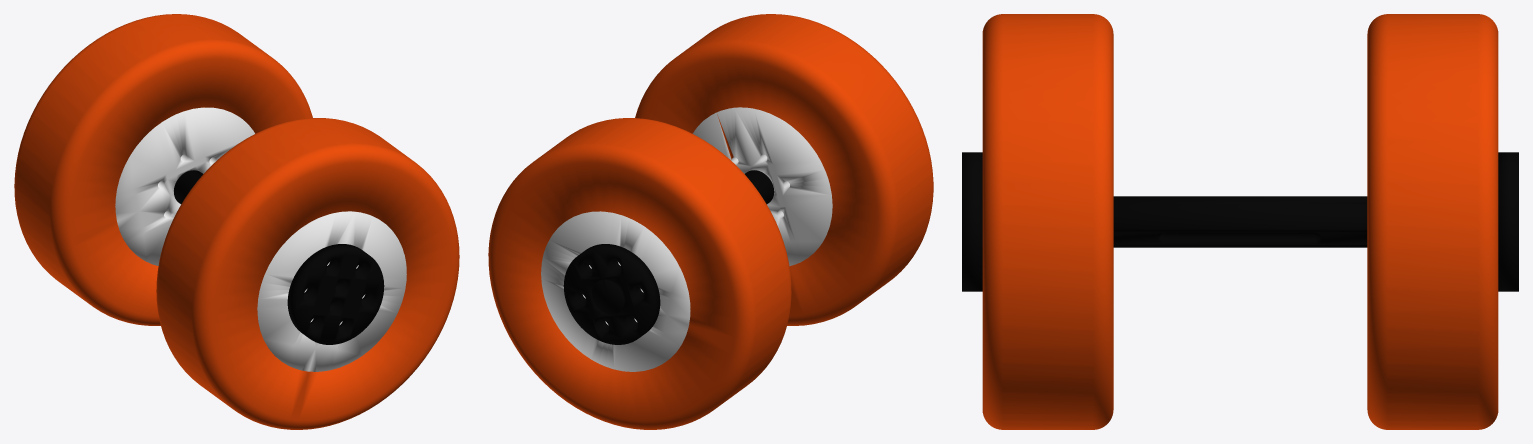
The model's file is front_wheel.dae.
3 views of the same model, side by side, from view 1: azimuth 30°, elevation 25°; view 2: azimuth 150°, elevation 25°; view 3: azimuth 270°, elevation 25° (orthographic). The views are drawn at different scales.
Visible parts, largest first — view 1: front_wheel; view 2: front_wheel; view 3: front_wheel.
Boxes of the visible parts, x1,y1,x2,y2 form: front_wheel: [14, 14, 459, 429]; front_wheel: [488, 14, 933, 429]; front_wheel: [962, 14, 1518, 429].
Size of the model in its own units: 0.1992 by 0.2667 by 0.1992.
